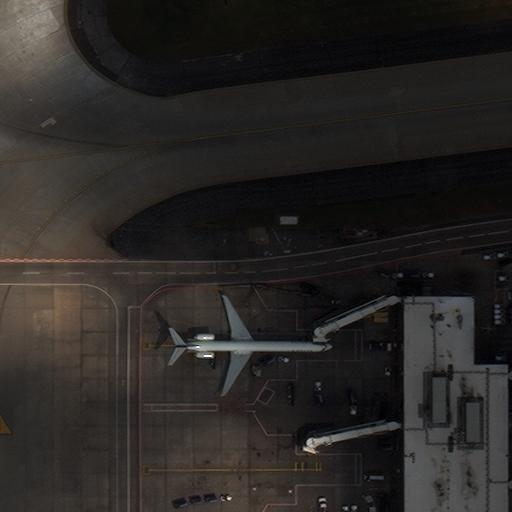Medium Civil Transport: (173, 295, 337, 396)
